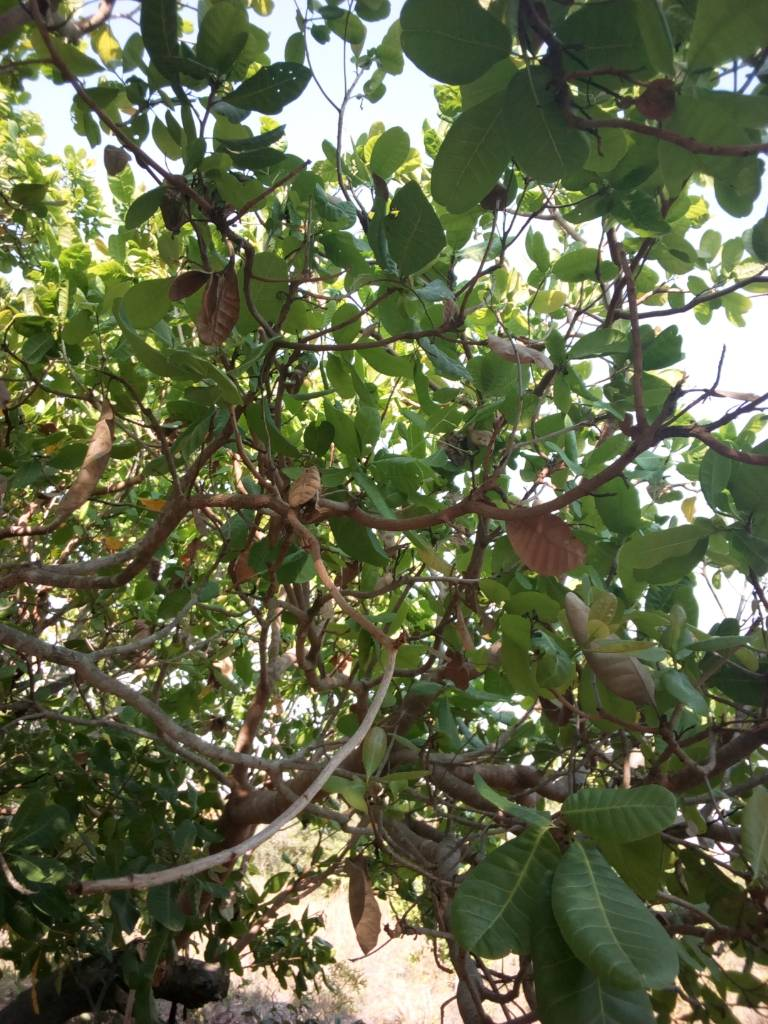Dessèchement des bourgeons: (245, 308, 321, 388)
